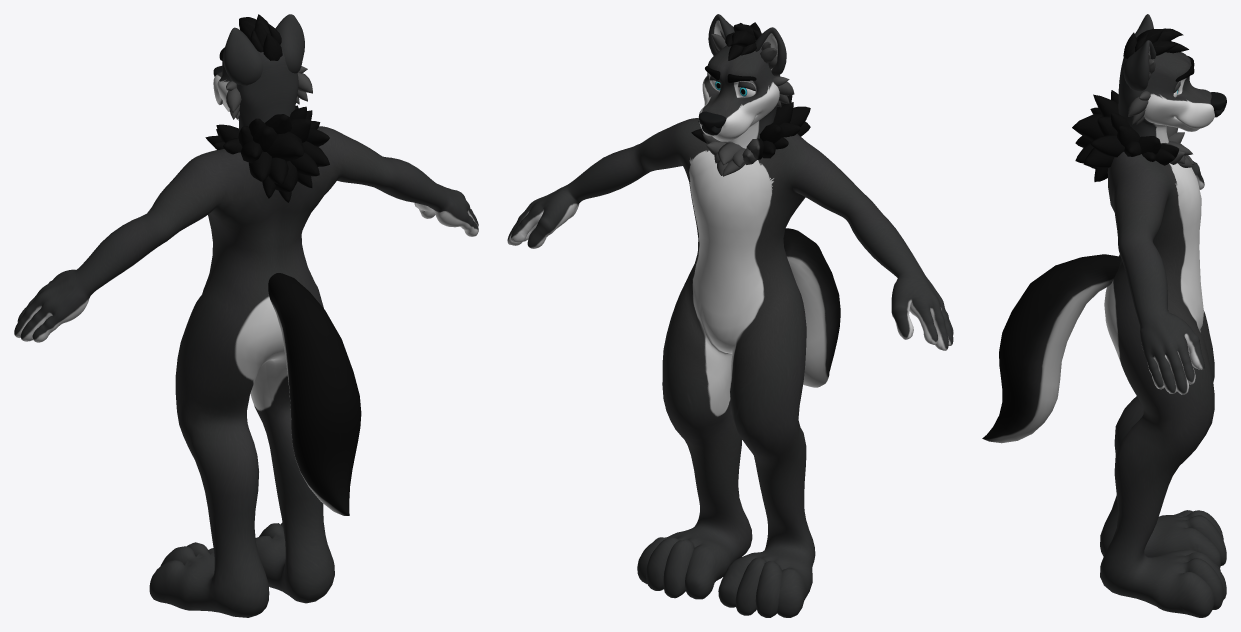
The model's file is Hitler.glb.
3 views of the same model, side by side, from view 1: azimuth 30°, elevation 25°; view 2: azimuth 150°, elevation 25°; view 3: azimuth 270°, elevation 25° (orthographic). The views are drawn at different scales.
Parts seen in each view (by area): view 1: Body, Fluff, Head, Ears, Hair; view 2: Body, Head, Fluff, Hair, Ears; view 3: Body, Fluff, Head, Ears, Hair.
Boxes of the visible parts, left/top/right/bottom form: Body: left=14, top=126, right=478, bottom=617; Fluff: left=205, top=66, right=329, bottom=202; Head: left=213, top=50, right=298, bottom=130; Ears: left=223, top=14, right=304, bottom=85; Hair: left=219, top=14, right=282, bottom=60; Body: left=507, top=118, right=953, bottom=617; Head: left=698, top=45, right=780, bottom=148; Fluff: left=691, top=30, right=810, bottom=176; Hair: left=705, top=22, right=761, bottom=82; Ears: left=708, top=14, right=786, bottom=75; Body: left=982, top=152, right=1226, bottom=617; Fluff: left=1072, top=54, right=1193, bottom=181; Head: left=1118, top=52, right=1214, bottom=143; Ears: left=1123, top=14, right=1156, bottom=91; Hair: left=1124, top=28, right=1194, bottom=81.
Bounding box in the file's own units: 6.26 × 7.61 × 3.04.
Materials: 8 (8 with a texture image).
